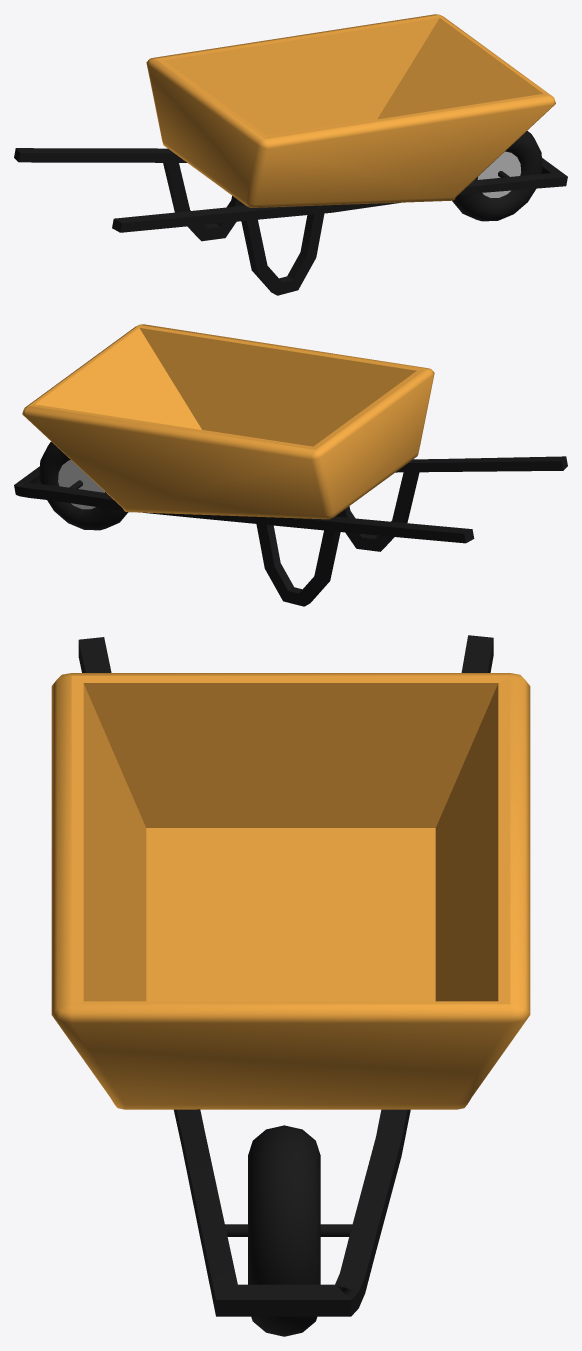
File: b74bf8eb-866d-49c5-903b-d343baf51ffe.glb
3 views of the same model, one above another, from view 1: azimuth 30°, elevation 25°; view 2: azimuth 150°, elevation 25°; view 3: azimuth 270°, elevation 25° (orthographic). The views are drawn at different scales.
Parts seen in each view (by area): view 1: ChamferBox001; view 2: ChamferBox001; view 3: ChamferBox001.
Part boxes in pixels (box(x1,y1,x2,y2)): ChamferBox001: box(14, 14, 567, 295); ChamferBox001: box(14, 324, 567, 606); ChamferBox001: box(51, 635, 530, 1336).
Bounding box in the file's own units: 94.88 × 35.02 × 40.45.
